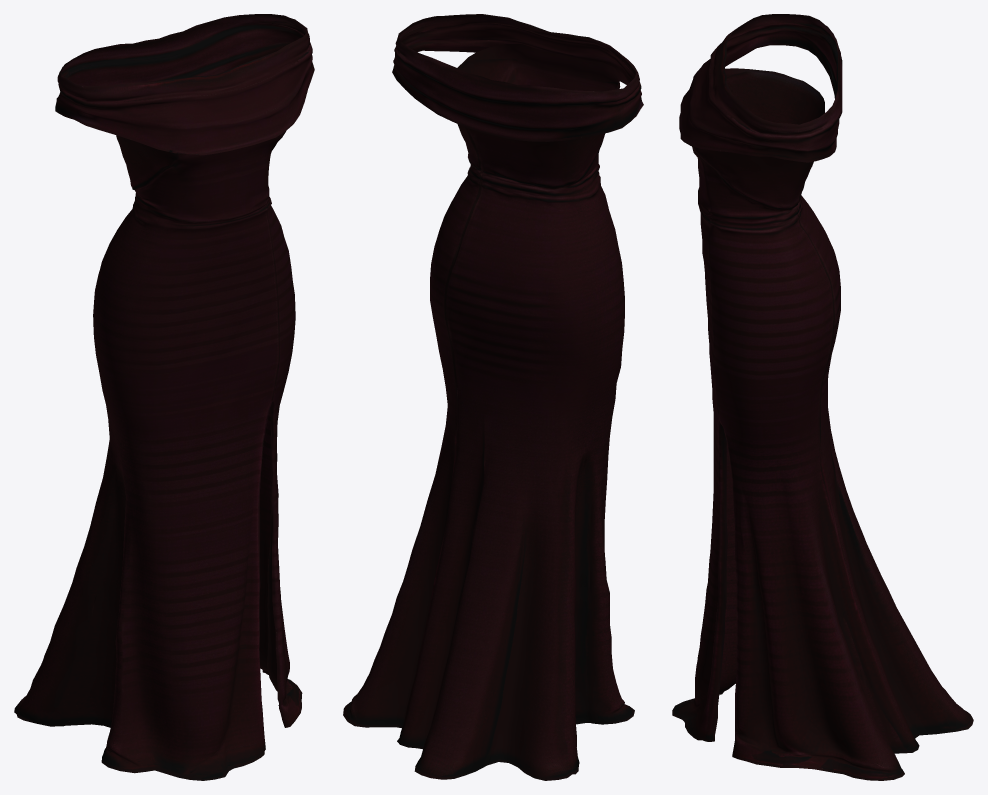
The model's file is black_evening_gown.glb.
The picture shows the model from 3 angles, left to right: view 1: azimuth 30°, elevation 25°; view 2: azimuth 150°, elevation 25°; view 3: azimuth 270°, elevation 25°; orthographic projection. The views are drawn at different scales.
Parts seen in each view (by area): view 1: tripo_node_15ff9fce-3ffe-4b9b-8f59-0374ae46f56a; view 2: tripo_node_15ff9fce-3ffe-4b9b-8f59-0374ae46f56a; view 3: tripo_node_15ff9fce-3ffe-4b9b-8f59-0374ae46f56a.
Boxes of the visible parts, left/top/right/bottom form: tripo_node_15ff9fce-3ffe-4b9b-8f59-0374ae46f56a: left=14, top=14, right=314, bottom=780; tripo_node_15ff9fce-3ffe-4b9b-8f59-0374ae46f56a: left=343, top=14, right=643, bottom=780; tripo_node_15ff9fce-3ffe-4b9b-8f59-0374ae46f56a: left=672, top=14, right=973, bottom=780.
Size of the model in its own units: 0.3848 by 0.998 by 0.4121.
Materials: 1 (1 with a texture image).
